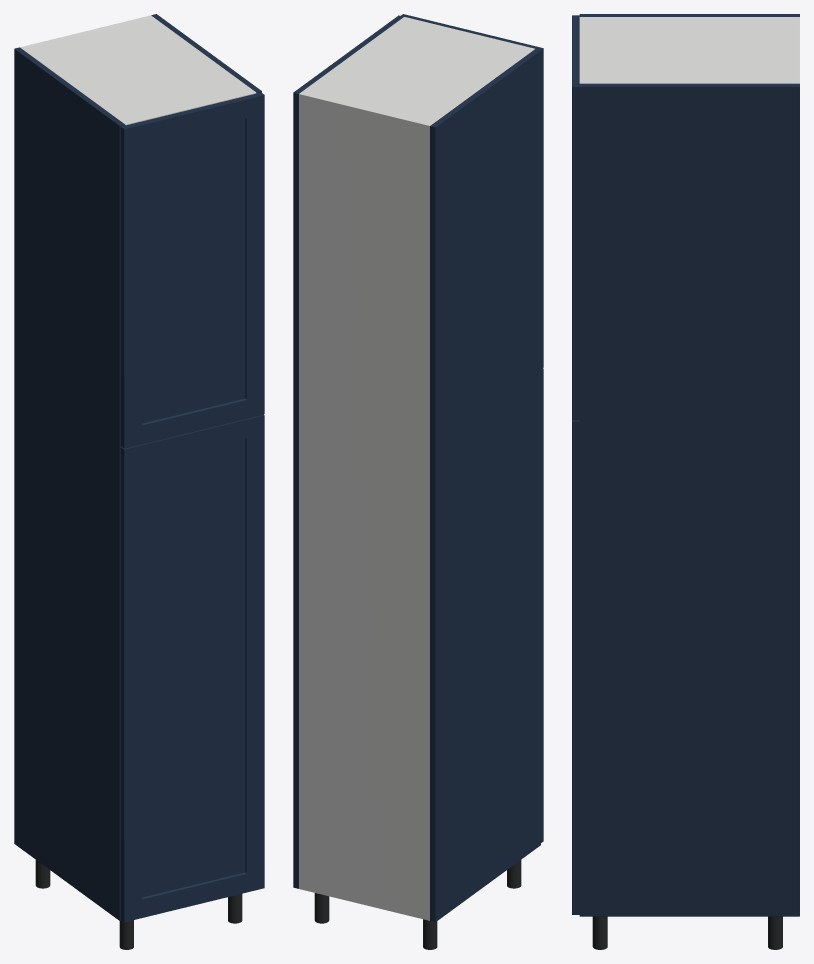
Rendered from oppein-pb-bss-pc1896.glb.
3 views of the same model, side by side, from view 1: azimuth 30°, elevation 25°; view 2: azimuth 150°, elevation 25°; view 3: azimuth 270°, elevation 25° (orthographic). The views are drawn at different scales.
Parts seen in each view (by area): view 1: Cabinet side, Door, Door.001, Cabinet top, Cabinet side.001; view 2: Cabinet back, Cabinet side, Cabinet top, Cabinet side.001, Door, Door.001, Cabinet bottom; view 3: Cabinet side.001, Cabinet top, Door, Door.001, Cabinet side, Adjustable foot.003, Adjustable foot.002.
Boxes of the visible parts, <box> form: Cabinet side: <box>14,47,125,920</box>; Door: <box>120,414,264,922</box>; Door.001: <box>120,92,264,448</box>; Cabinet top: <box>22,17,256,125</box>; Cabinet side.001: <box>151,14,261,93</box>; Cabinet back: <box>299,92,431,920</box>; Cabinet side: <box>430,49,540,922</box>; Cabinet top: <box>299,17,534,131</box>; Cabinet side.001: <box>293,15,403,888</box>; Door: <box>541,368,543,842</box>; Door.001: <box>401,14,543,369</box>; Cabinet bottom: <box>299,884,429,920</box>; Cabinet side.001: <box>579,83,799,916</box>; Cabinet top: <box>579,17,795,83</box>; Door: <box>572,420,579,914</box>; Door.001: <box>572,15,579,420</box>; Cabinet side: <box>579,14,799,16</box>; Adjustable foot.003: <box>592,916,607,949</box>; Adjustable foot.002: <box>768,916,782,949</box>.
Bounding box in the file's own units: 0.4572 × 2.55 × 0.6064.
